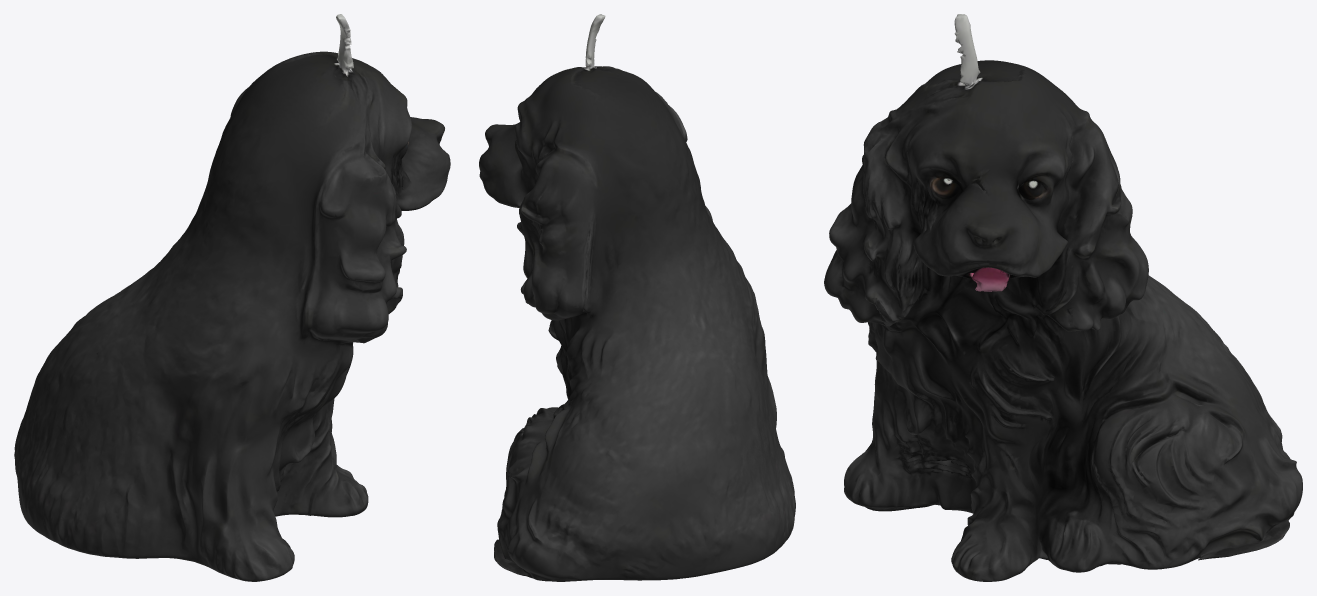
Rendered from cocker.glb.
3 renders of one model, left to right at view 1: azimuth 30°, elevation 25°; view 2: azimuth 150°, elevation 25°; view 3: azimuth 270°, elevation 25°, orthographic. The views are drawn at different scales.
Visible parts, largest first — view 1: tripo_node_81d80ab1-21f1-40fc-870f-a7dac83bd409; view 2: tripo_node_81d80ab1-21f1-40fc-870f-a7dac83bd409; view 3: tripo_node_81d80ab1-21f1-40fc-870f-a7dac83bd409.
Part boxes in pixels (bbox=[...]): tripo_node_81d80ab1-21f1-40fc-870f-a7dac83bd409: bbox=[14, 14, 450, 581]; tripo_node_81d80ab1-21f1-40fc-870f-a7dac83bd409: bbox=[479, 14, 795, 581]; tripo_node_81d80ab1-21f1-40fc-870f-a7dac83bd409: bbox=[824, 14, 1302, 581].
Bounding box in the file's own units: 0.7624 × 1 × 0.7894.
Materials: 1 (1 with a texture image).
